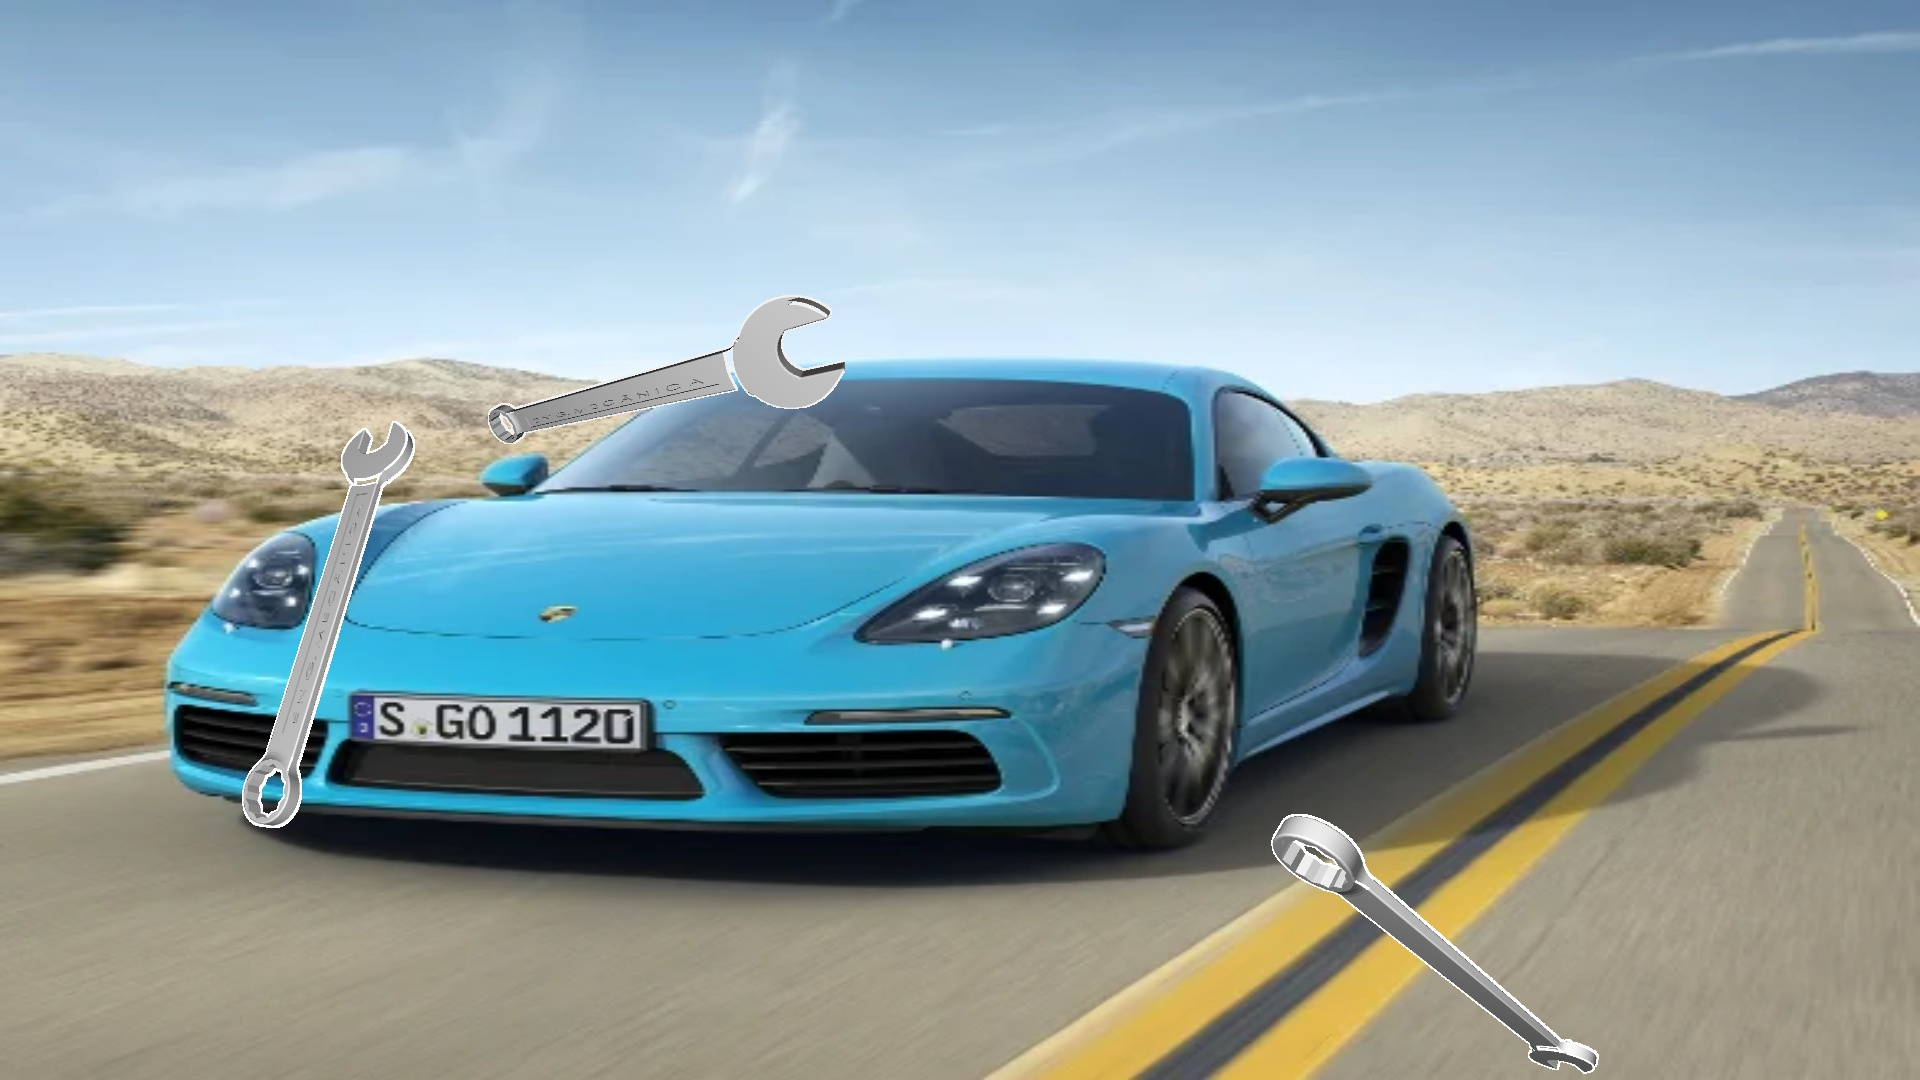Mixed Key: (1271, 814, 1598, 1073), (243, 421, 414, 827), (488, 295, 844, 443)
